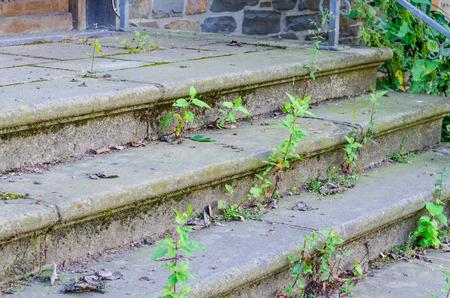overgrown grass: (363, 0, 449, 95), (292, 227, 356, 298), (339, 90, 386, 186), (163, 210, 195, 298), (413, 202, 450, 261), (304, 13, 324, 108), (280, 108, 299, 206), (125, 18, 161, 49), (170, 92, 196, 134), (218, 94, 248, 122), (86, 37, 98, 76)
